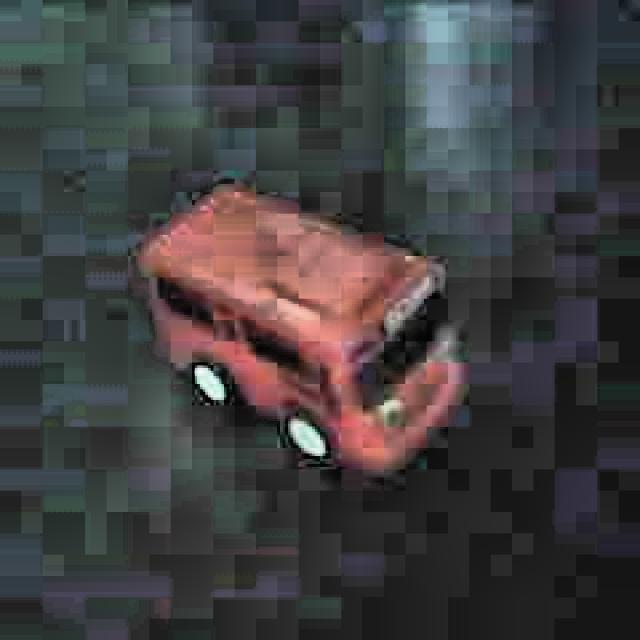bus: (136, 162, 471, 486)
